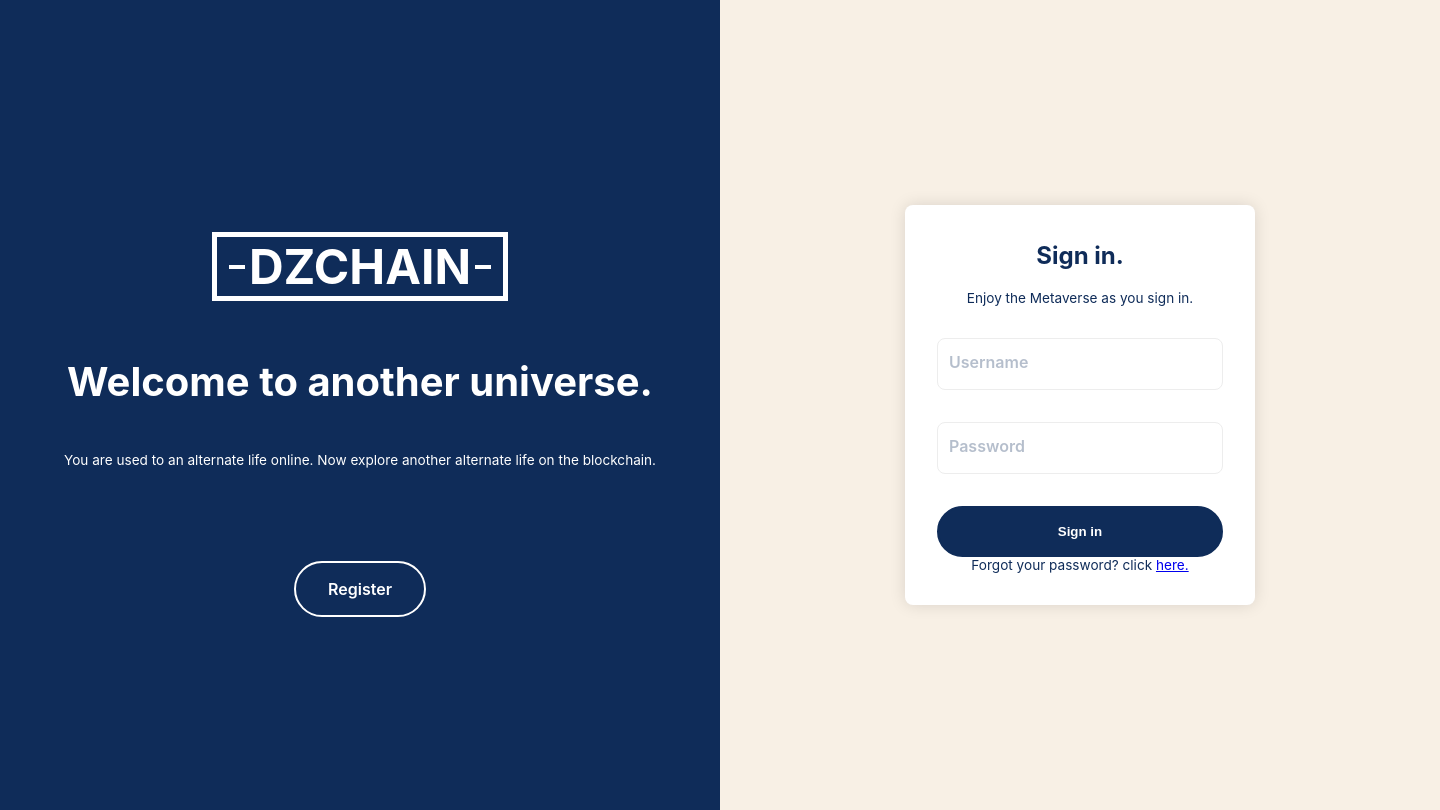
Test: SignIn Form › Validation › should say password doesn't match the username
The width and height of the screenshot is (1440, 810).
In the field labelled "Username": point(1080, 364) top-left (937, 338), bottom-right (1223, 390), type "Ryuseioh"
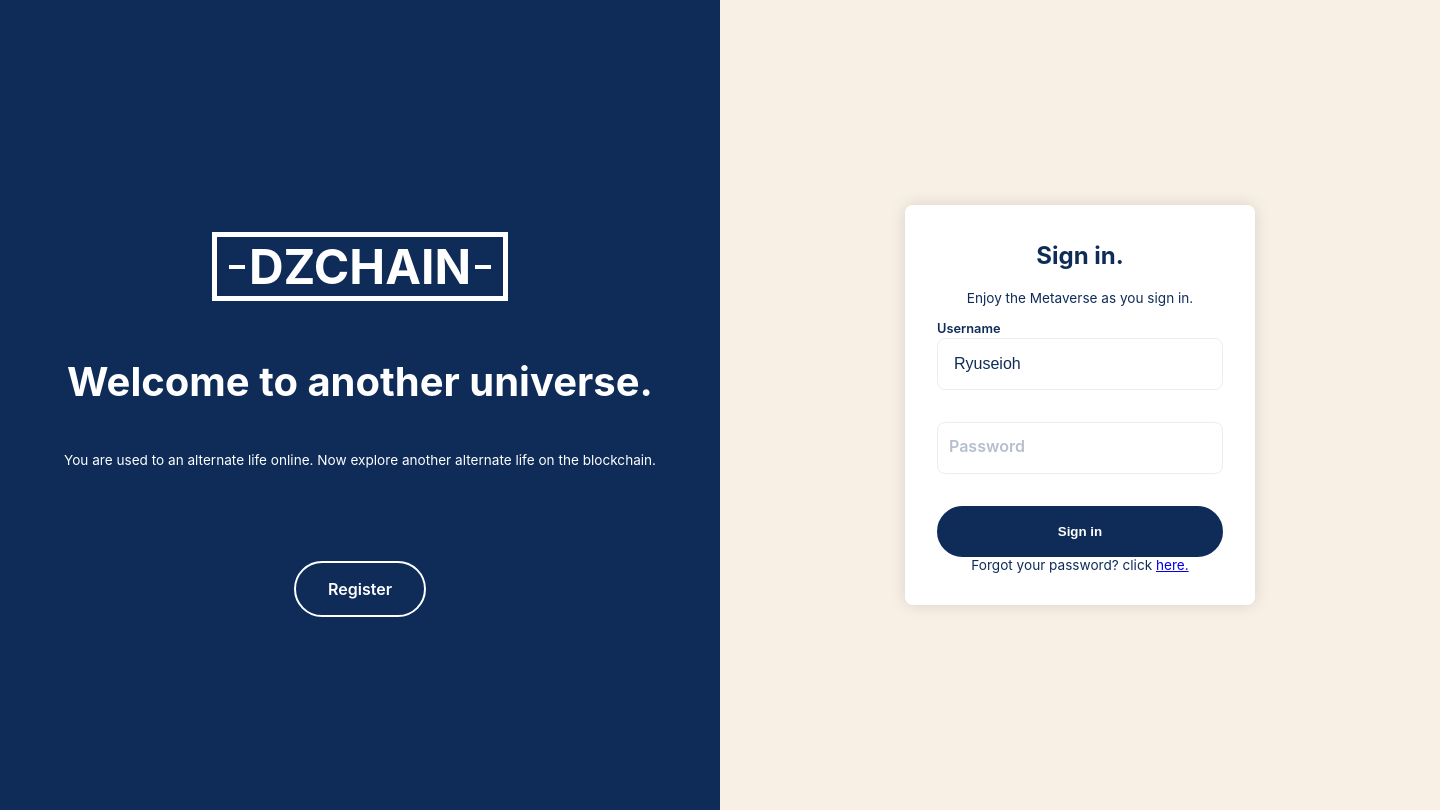
In the password field labelled "Password": point(1080, 448) top-left (937, 422), bottom-right (1223, 474), type "wrongPassword"
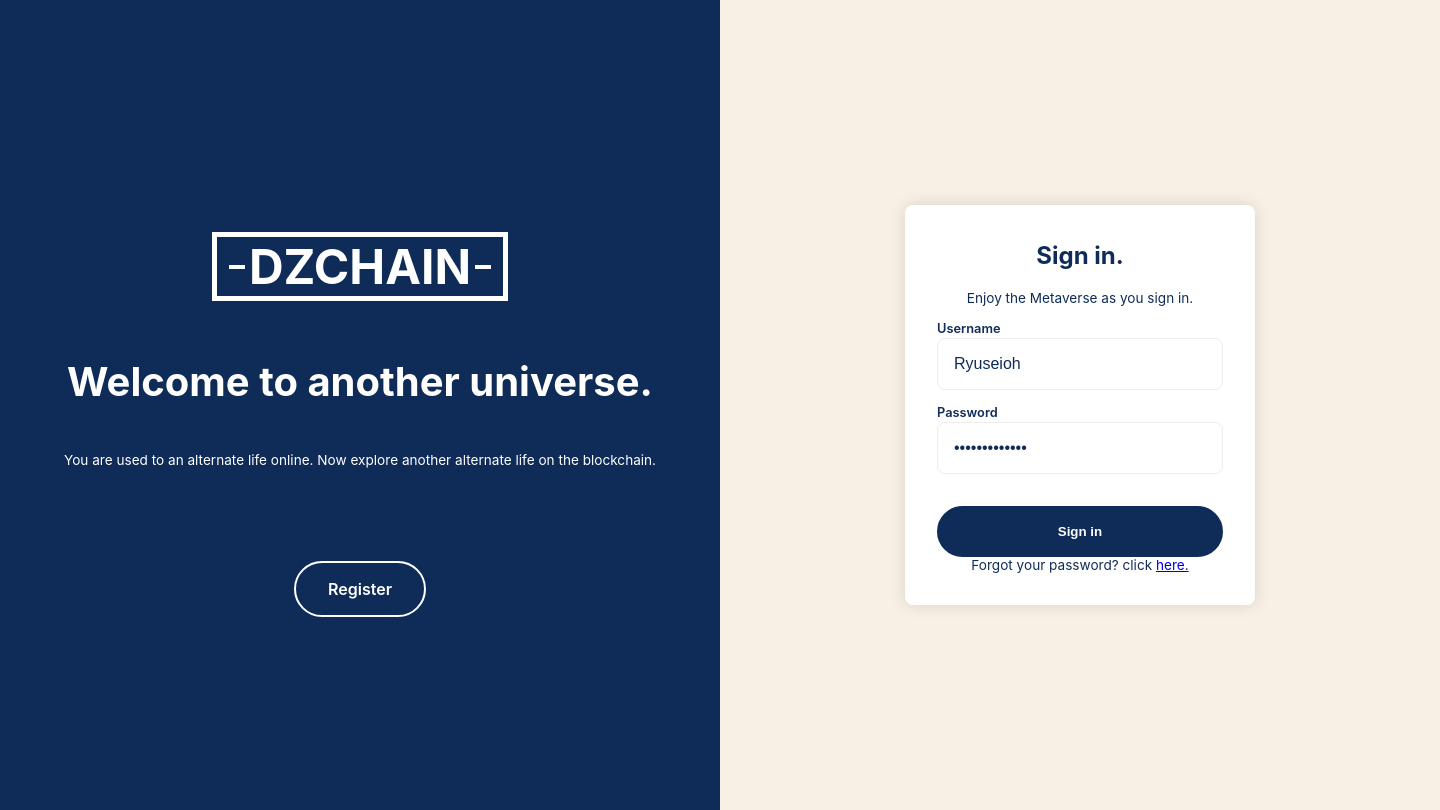
Submit the form from the button, box top-left (937, 506), bottom-right (1223, 557)
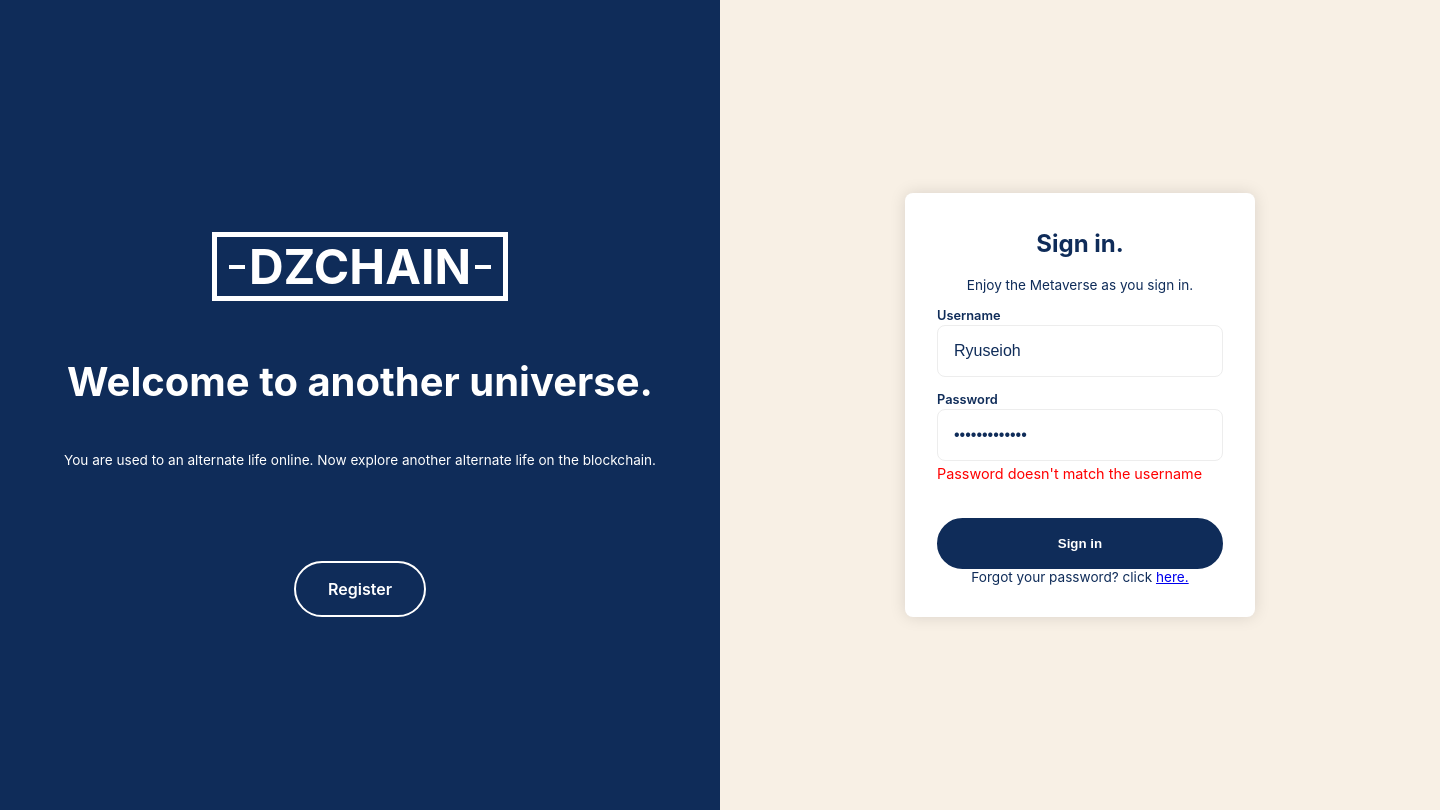
expect the text "Password doesn't match the username" is shown: met, box top-left (937, 465), bottom-right (1223, 482)
